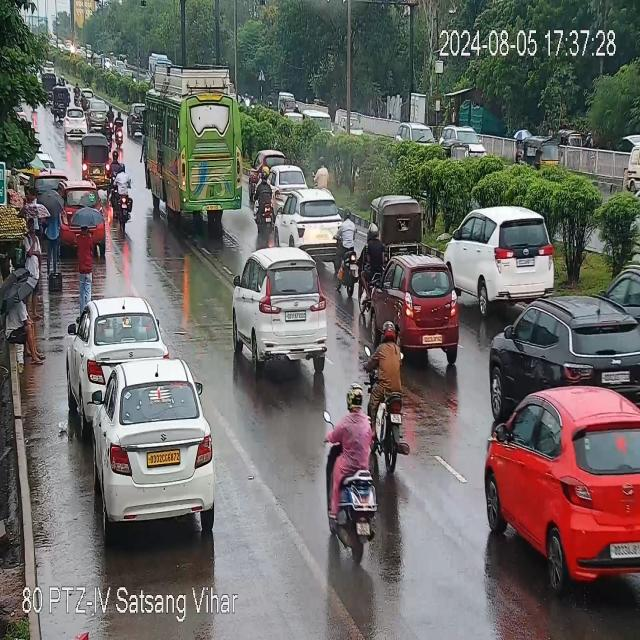2-wheelers: (322, 379, 377, 562), (362, 312, 413, 474), (349, 230, 387, 301), (111, 162, 139, 229), (254, 164, 276, 237), (336, 214, 364, 252), (85, 102, 114, 129), (108, 107, 124, 145)
auto: (374, 197, 420, 250), (79, 130, 115, 182), (517, 134, 563, 166), (52, 78, 75, 116), (628, 138, 640, 200)
bus: (137, 71, 248, 220)
car: (478, 378, 640, 593), (477, 274, 639, 420), (94, 358, 218, 528), (231, 247, 336, 372), (450, 208, 560, 306), (70, 294, 162, 398), (379, 253, 465, 361), (278, 188, 346, 252), (590, 260, 637, 352), (61, 177, 107, 264), (441, 123, 491, 158), (394, 116, 434, 150), (266, 165, 308, 197), (126, 102, 146, 146), (63, 111, 91, 140)
pedestrian: (72, 204, 105, 325), (16, 198, 46, 323), (3, 282, 47, 366), (41, 187, 67, 281)
